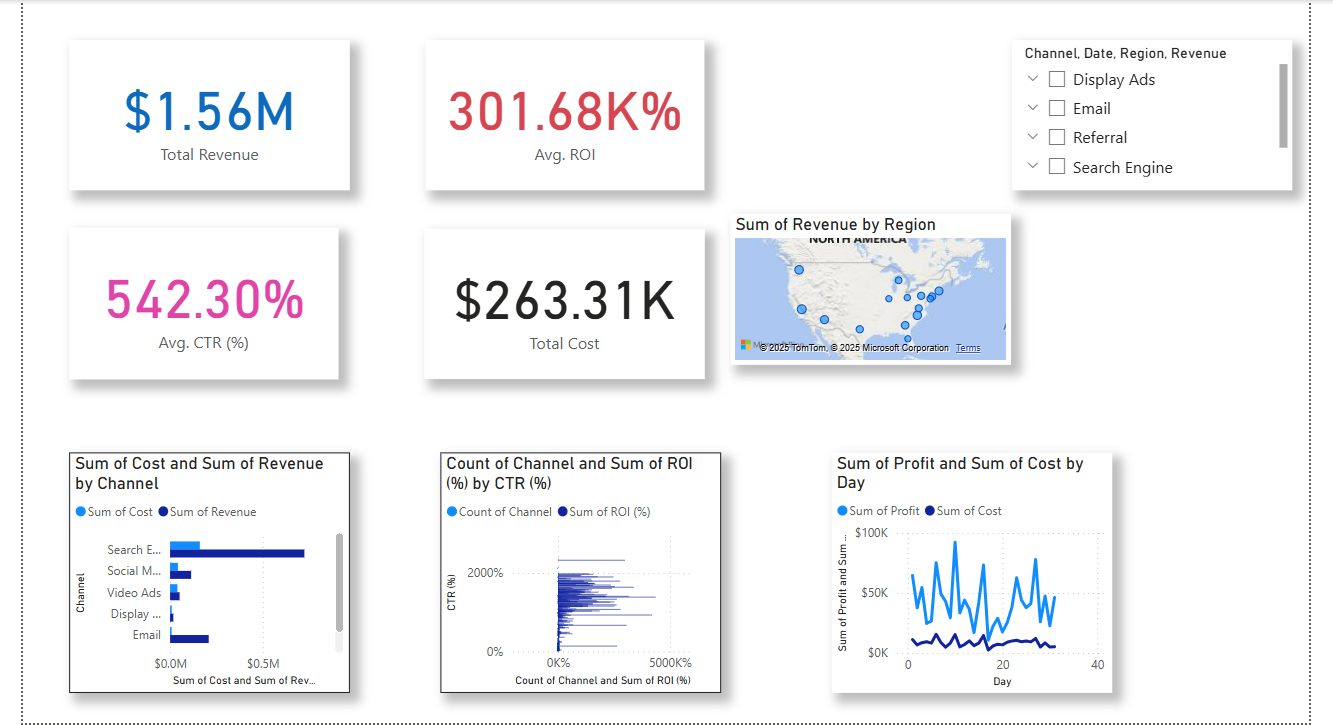

The page's visual inventory and layout, read from the dashboard file:
{"tool":"powerbi","page":{"name":"Page 1","canvas":[1280,720],"ordinal":0},"visuals":[{"type":"card","fields":{"Values":["Sum(marketing_campaign_data_cleaned.Revenue)"]},"box":[45.6,39.9,279.4,149.7],"z":0},{"type":"card","fields":{"Values":["Avg(marketing_campaign_data_cleaned.CTR (%))"]},"box":[45.6,226.6,268,151.1],"z":1000},{"type":"card","fields":{"Values":["Avg(marketing_campaign_data_cleaned.ROI (%))"]},"box":[400.5,39.9,278,149.7],"z":2000},{"type":"card","fields":{"Values":["Sum(marketing_campaign_data_cleaned.Cost)"]},"box":[399.1,228.1,279.4,149.7],"z":3000},{"type":"clusteredBarChart","fields":{"Category":["marketing_campaign_data_cleaned.Channel"],"Y":["Sum(marketing_campaign_data_cleaned.Cost)","Sum(marketing_campaign_data_cleaned.Revenue)"]},"box":[45.6,450.4,279.4,239.5],"z":4000},{"type":"clusteredBarChart","fields":{"Category":["marketing_campaign_data_cleaned.CTR (%)"],"Y":["CountNonNull(marketing_campaign_data_cleaned.Channel)","Sum(marketing_campaign_data_cleaned.ROI (%))"]},"box":[415,450,279,239],"z":5000},{"type":"map","fields":{"Category":["marketing_campaign_data_cleaned.Region"],"Size":["Sum(marketing_campaign_data_cleaned.Revenue)"]},"box":[704.5,213,279,150],"z":6000},{"type":"slicer","fields":{"Values":["marketing_campaign_data_cleaned.Channel","marketing_campaign_data_cleaned.Date","marketing_campaign_data_cleaned.Region","marketing_campaign_data_cleaned.Revenue"]},"box":[983.5,39.9,279.4,149.7],"z":7001},{"type":"lineChart","fields":{"Category":["marketing_campaign_data_cleaned.Date.Variation.Date Hierarchy.Year","marketing_campaign_data_cleaned.Date.Variation.Date Hierarchy.Quarter","marketing_campaign_data_cleaned.Date.Variation.Date Hierarchy.Month","marketing_campaign_data_cleaned.Date.Variation.Date Hierarchy.Day"],"Y":["Sum(marketing_campaign_data_cleaned.Profit)","Sum(marketing_campaign_data_cleaned.Cost)"]},"box":[805.3,450.4,279.4,239.5],"z":7002}]}

Visuals, with their boxes on the page's 1280x720 design canvas (x1, y1, x2, y2). These are canvas units, not pixel positions in the 1333x725 screenshot, which may show the page scaled, cropped or inside an application window:
card - Sum(marketing_campaign_data_cleaned.Revenue): 46/40/325/190
card - Avg(marketing_campaign_data_cleaned.CTR (%)): 46/227/314/378
card - Avg(marketing_campaign_data_cleaned.ROI (%)): 400/40/678/190
card - Sum(marketing_campaign_data_cleaned.Cost): 399/228/678/378
clusteredBarChart - marketing_campaign_data_cleaned.Channel x Sum(marketing_campaign_data_cleaned.Cost): 46/450/325/690
clusteredBarChart - marketing_campaign_data_cleaned.CTR (%) x CountNonNull(marketing_campaign_data_cleaned.Channel): 415/450/694/689
map - marketing_campaign_data_cleaned.Region x Sum(marketing_campaign_data_cleaned.Revenue): 704/213/984/363
slicer - marketing_campaign_data_cleaned.Channel x marketing_campaign_data_cleaned.Date: 984/40/1263/190
lineChart - marketing_campaign_data_cleaned.Date.Variation.Date Hierarchy.Year x marketing_campaign_data_cleaned.Date.Variation.Date Hierarchy.Quarter: 805/450/1085/690
